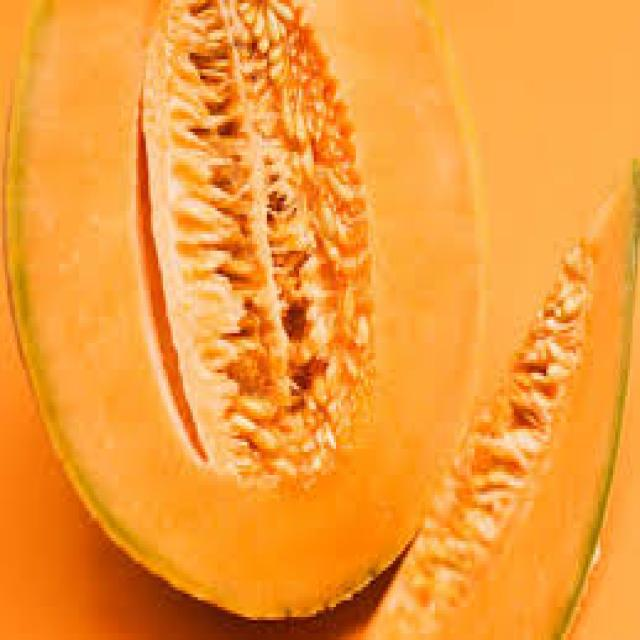cantaloupe: (4, 0, 483, 620)
